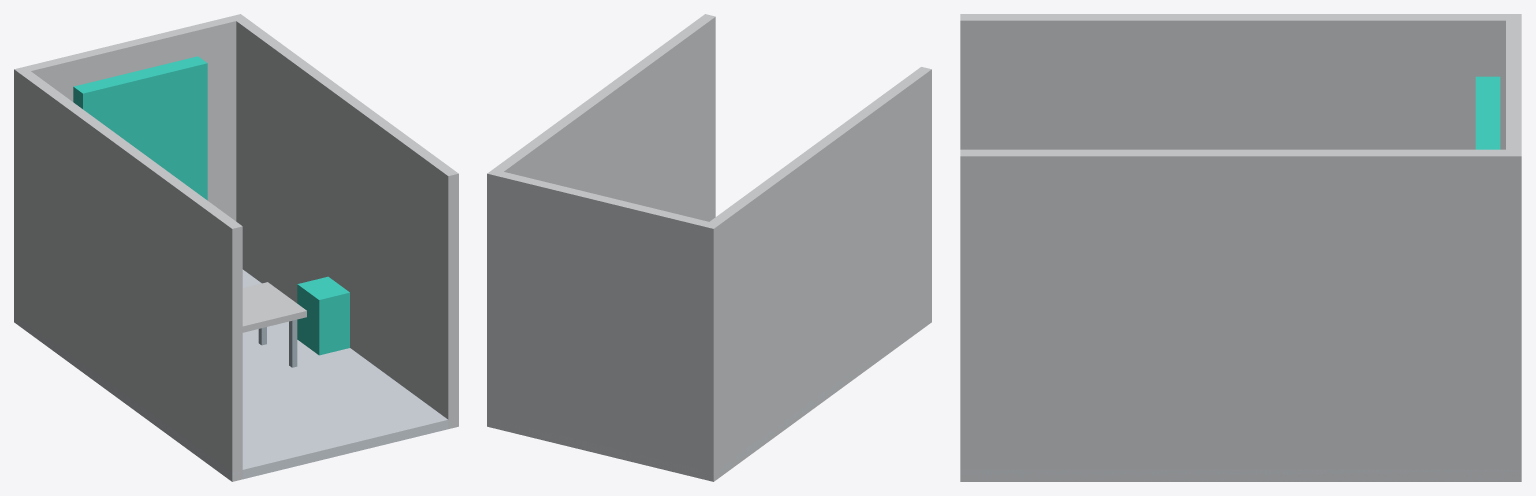
3 views of the same model, side by side, from view 1: azimuth 30°, elevation 25°; view 2: azimuth 150°, elevation 25°; view 3: azimuth 270°, elevation 25° (orthographic). The views are drawn at different scales.
Parts seen in each view (by area): view 1: Exhibition Booth Concept; view 2: Exhibition Booth Concept; view 3: Exhibition Booth Concept.
Boxes of the visible parts, left/top/right/bottom form: Exhibition Booth Concept: left=14, top=14, right=458, bottom=481; Exhibition Booth Concept: left=487, top=14, right=931, bottom=481; Exhibition Booth Concept: left=960, top=14, right=1521, bottom=481.
Size of the model in its own units: 3 by 3.2 by 5.
